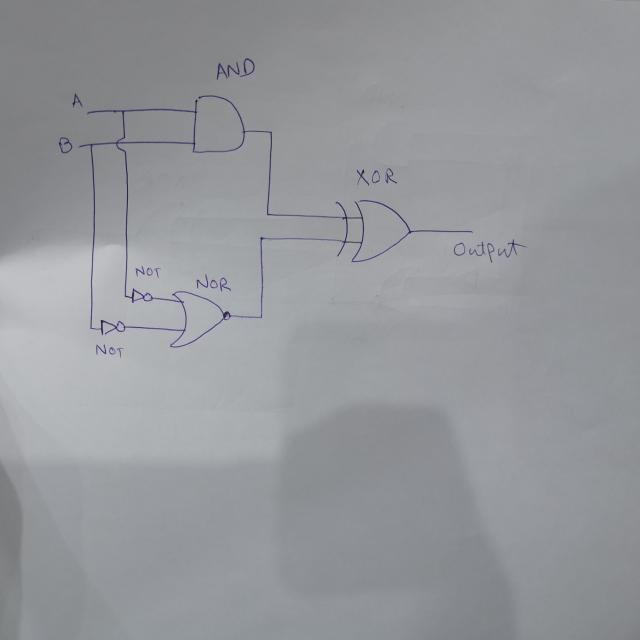crossover: (114, 133, 130, 154)
junction: (266, 126, 276, 136), (256, 312, 264, 321), (118, 106, 126, 115), (86, 141, 95, 149), (122, 291, 129, 300), (87, 324, 94, 331), (264, 210, 270, 218), (258, 234, 263, 241)
terminal: (466, 225, 477, 236), (76, 142, 84, 151), (84, 108, 92, 116)
text: (450, 236, 526, 264), (352, 164, 400, 187), (214, 56, 257, 81), (194, 274, 234, 294), (94, 342, 124, 358), (56, 133, 74, 155), (133, 264, 160, 278), (70, 91, 84, 108)
